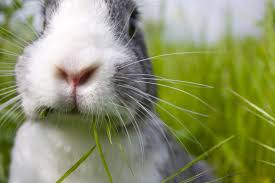bunny: (9, 1, 220, 183)
